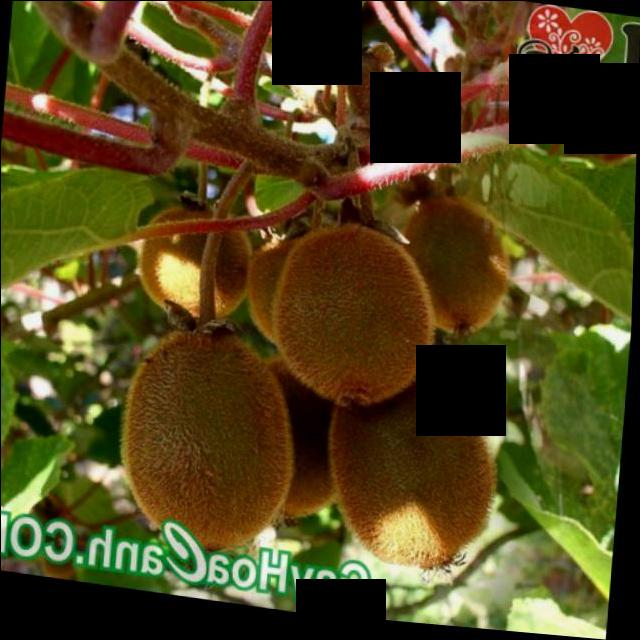kiwi: (122, 325, 308, 567), (326, 352, 510, 583), (272, 221, 444, 419), (396, 191, 520, 347), (141, 207, 262, 339), (248, 239, 372, 362)
